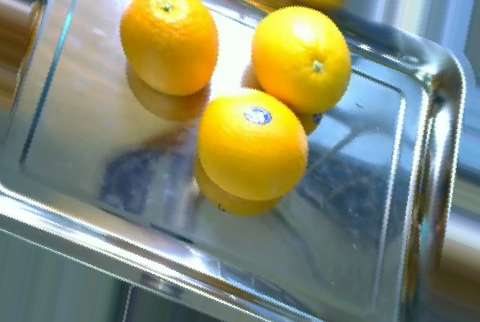Orange: (196, 88, 308, 202), (251, 4, 353, 114), (118, 0, 220, 95)
